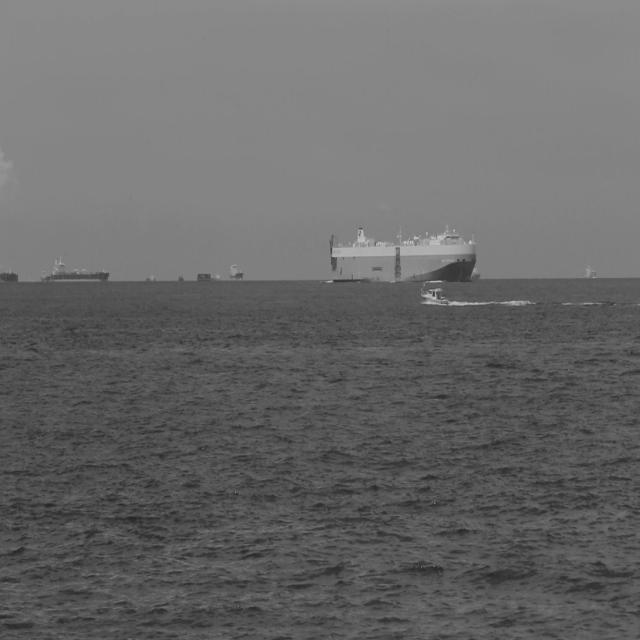ship: (328, 222, 478, 284), (50, 252, 110, 284), (420, 282, 449, 308), (0, 265, 20, 283), (228, 260, 244, 282), (467, 260, 481, 281), (39, 266, 50, 284), (196, 270, 212, 282), (176, 273, 184, 282)
